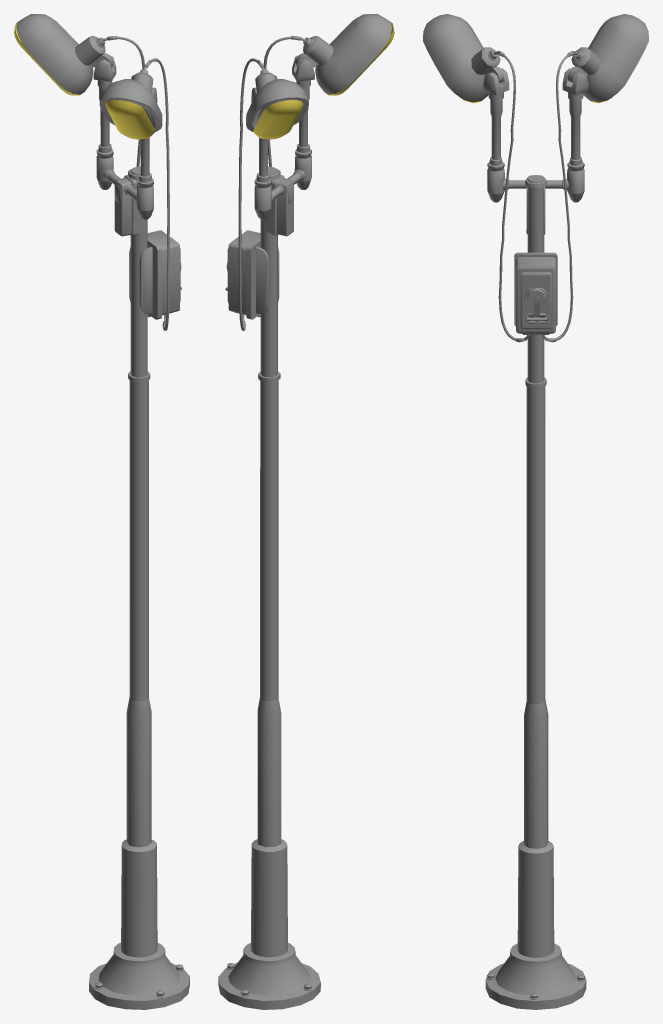
File: Lamp_Post_Medium_Scifi_A.fbx
3 views of the same model, side by side, from view 1: azimuth 30°, elevation 25°; view 2: azimuth 150°, elevation 25°; view 3: azimuth 270°, elevation 25° (orthographic).
Visible parts, largest first — view 1: Geom_Lamp_Post_Medium_Scifi_A_LOD00, Geom_Lamp_Post_Medium_Scifi_A_Emissive_GI; view 2: Geom_Lamp_Post_Medium_Scifi_A_LOD00, Geom_Lamp_Post_Medium_Scifi_A_Emissive_GI; view 3: Geom_Lamp_Post_Medium_Scifi_A_LOD00.
Part boxes in pixels (x1,y1,x2,y2): Geom_Lamp_Post_Medium_Scifi_A_LOD00: (16, 14, 189, 1009); Geom_Lamp_Post_Medium_Scifi_A_Emissive_GI: (14, 22, 154, 139); Geom_Lamp_Post_Medium_Scifi_A_LOD00: (218, 14, 391, 1009); Geom_Lamp_Post_Medium_Scifi_A_Emissive_GI: (253, 22, 394, 139); Geom_Lamp_Post_Medium_Scifi_A_LOD00: (423, 14, 648, 1009).
Size of what is drawn, in the model's own units: 261 by 1946 by 422.
